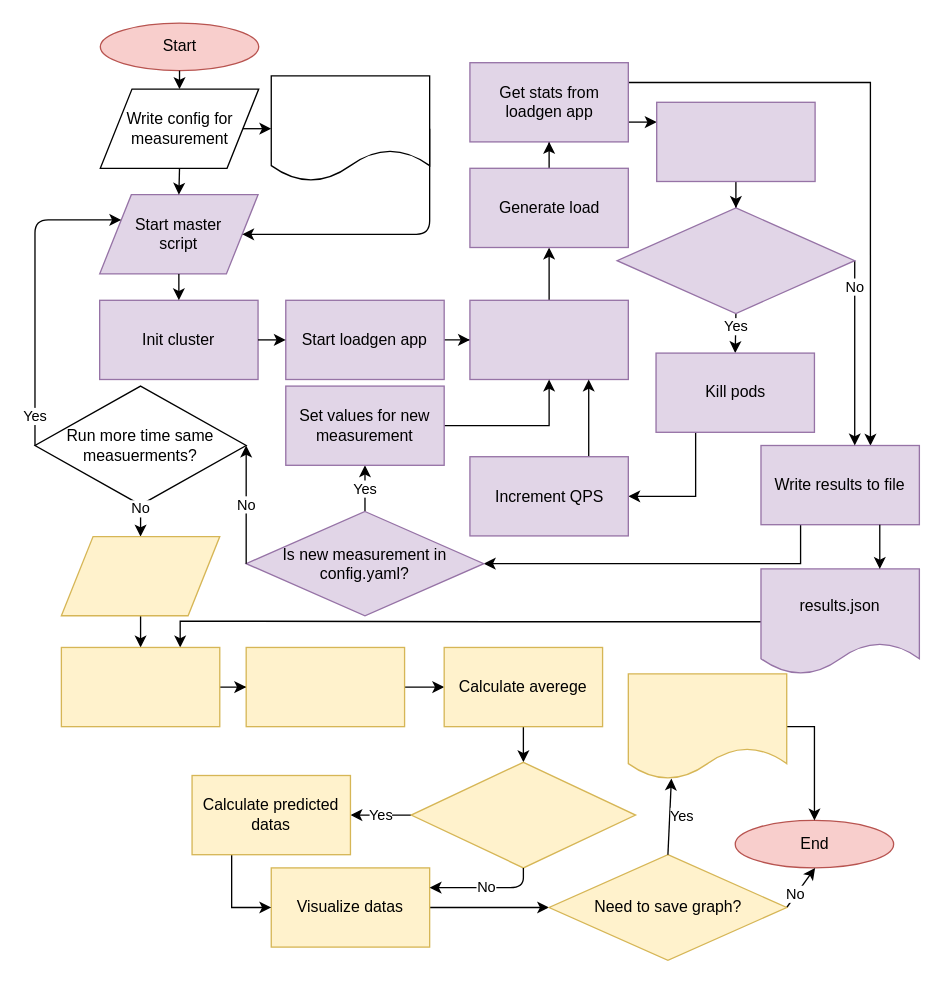
Some shapes in this 942 by 983 pixel diagram are drawn without their labels. Here are the shapes that lost their labels. From the top down, the box of each, then its label:
(270, 75, 430, 182): config.yaml
(655, 101, 815, 182): Get stats from Prometheus
(616, 207, 855, 314): Was the test successful?
(469, 299, 628, 380): Start measured app
(60, 535, 220, 616): Start visualize script
(60, 646, 220, 727): Read reslut files given as argument
(245, 646, 405, 727): Generate new object from results
(627, 673, 787, 779): graph.svg
(410, 761, 636, 868): Need to predict usage?
